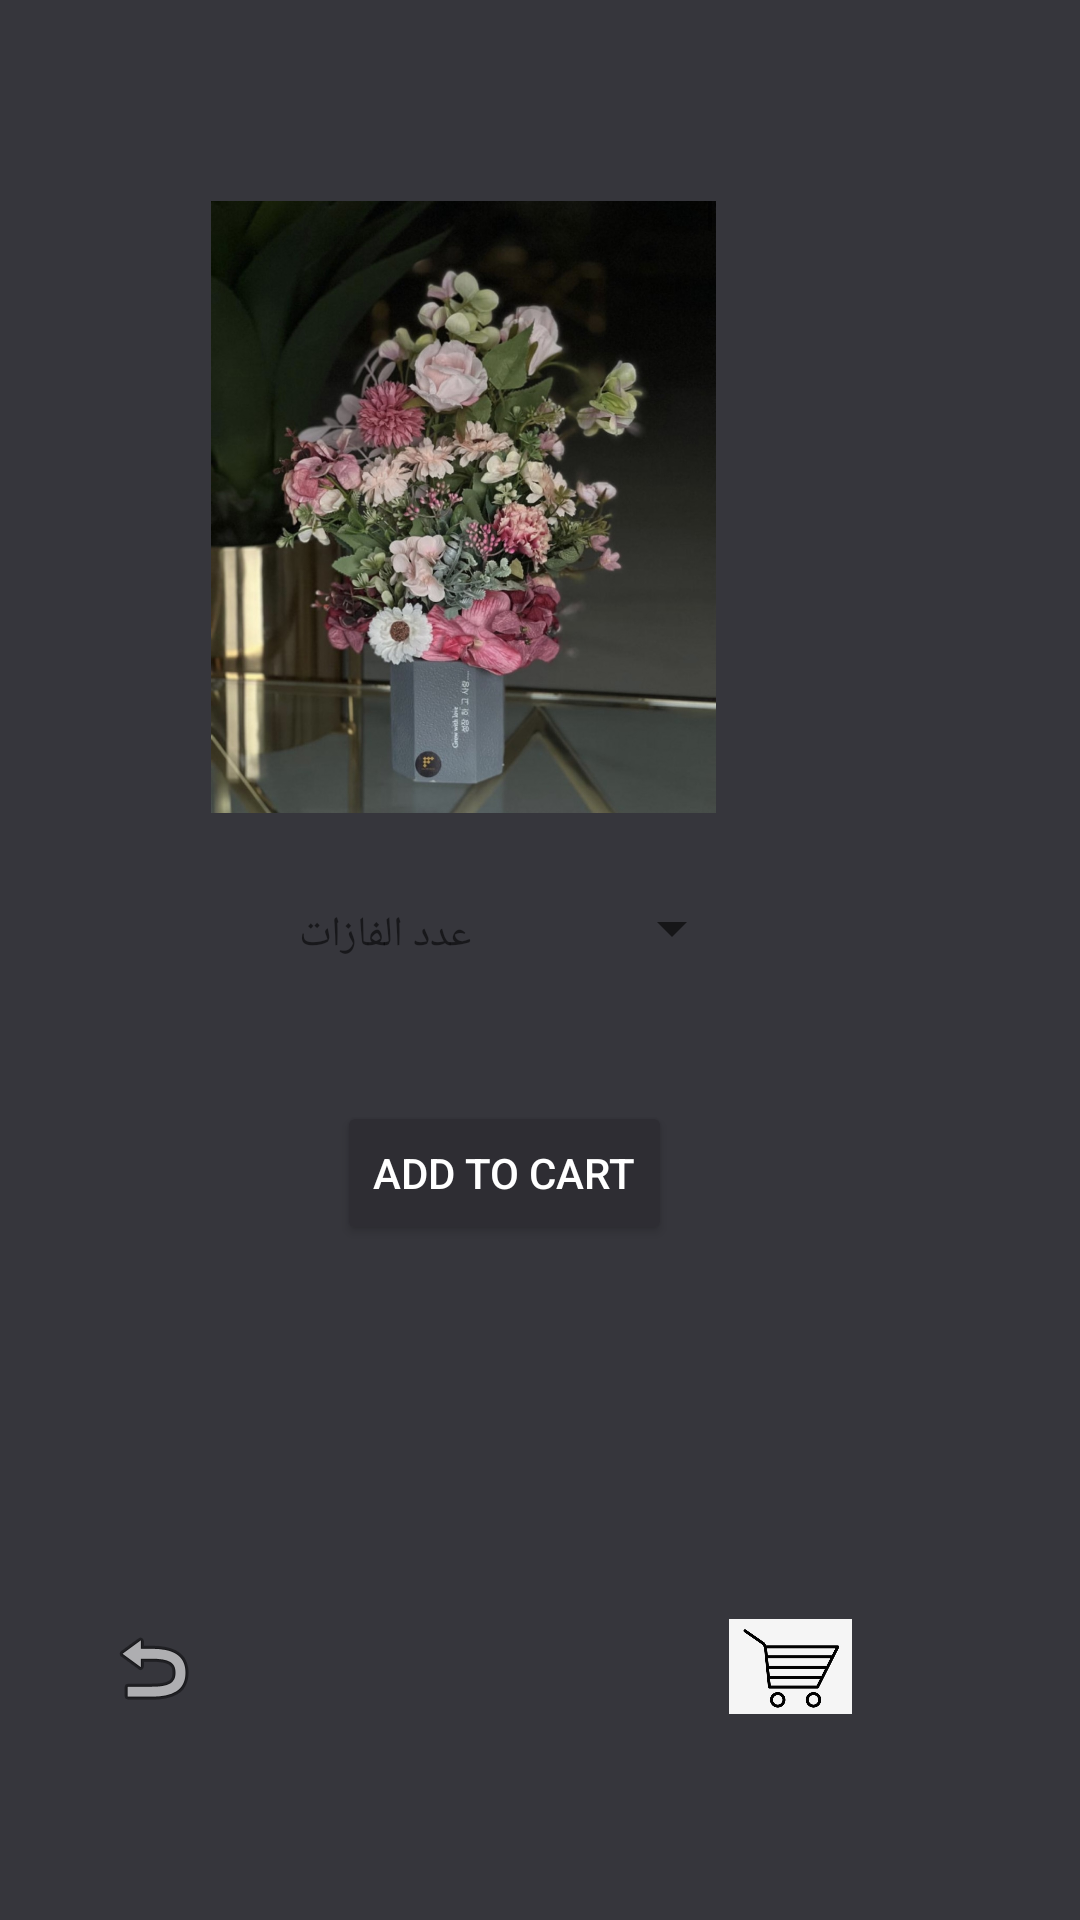

Screen size 1080px x 1920px. Icon name, then its center in pixels as [x,y]:
revert: [154,1668]
